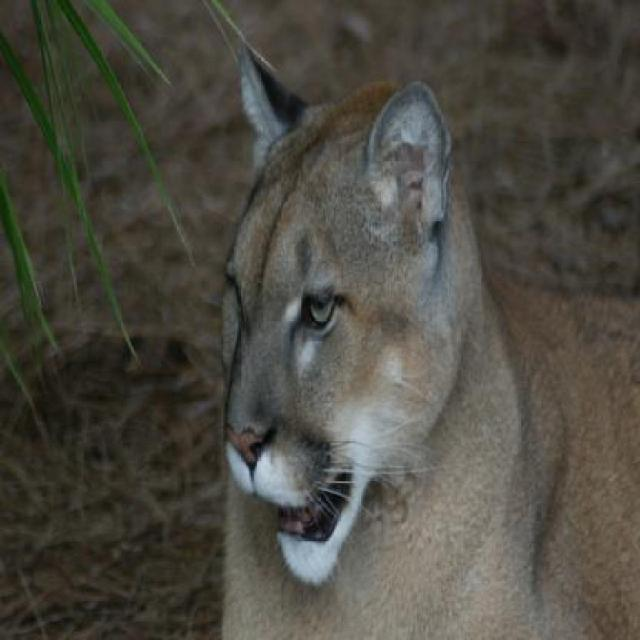Lion: (150, 40, 638, 635)
